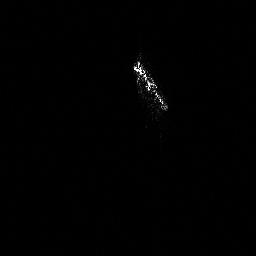ship: (129, 55, 168, 117)
